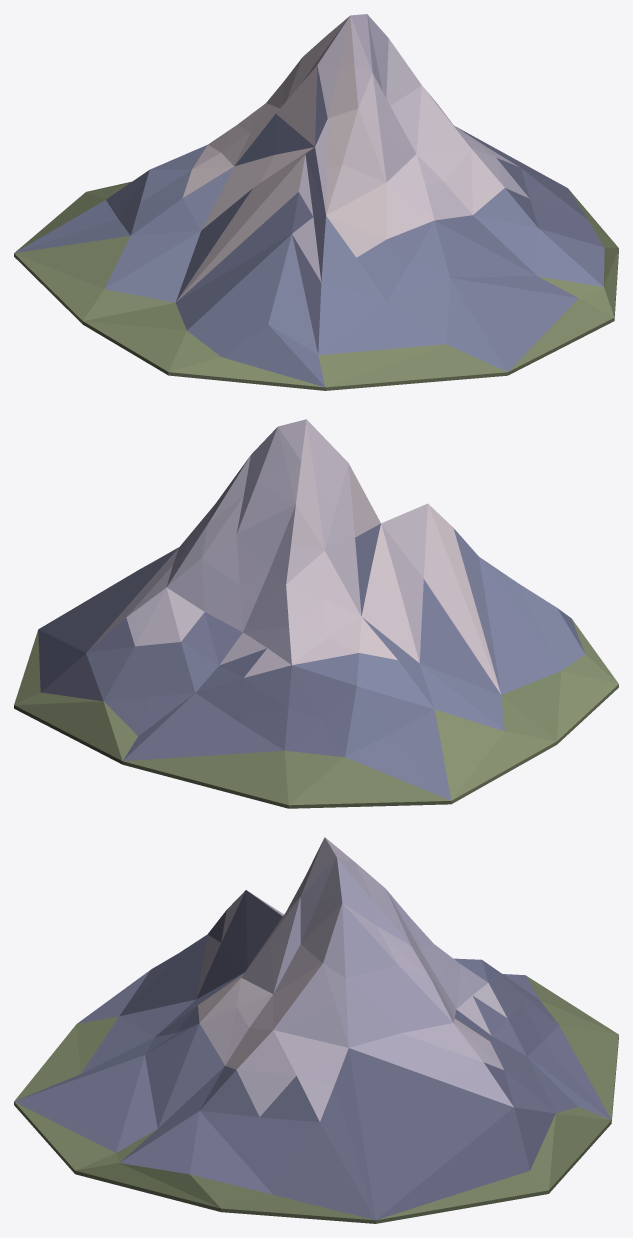
File: massif_frost_crown.glb
3 renders of one model, top to bottom at view 1: azimuth 30°, elevation 25°; view 2: azimuth 150°, elevation 25°; view 3: azimuth 270°, elevation 25°, orthographic. The views are drawn at different scales.
Parts seen in each view (by area): view 1: massif_frost_crown; view 2: massif_frost_crown; view 3: massif_frost_crown.
Boxes of the visible parts, box(x1,y1,x2,y2) form: massif_frost_crown: box(14, 14, 618, 390); massif_frost_crown: box(14, 419, 618, 808); massif_frost_crown: box(14, 837, 618, 1223).
Size of the model in its own units: 975 by 472 by 980.
